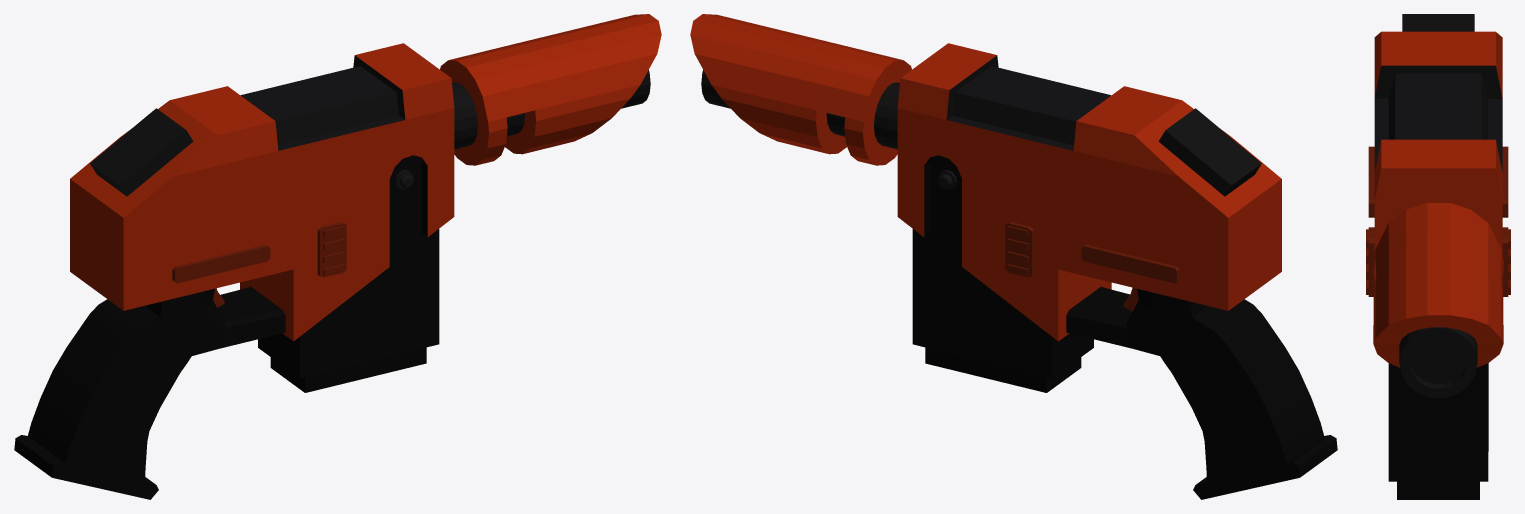
Rendered from Accatran_MG_Variant_Heavy_Laspistol_Orange.obj.
3 renders of one model, left to right at view 1: azimuth 30°, elevation 25°; view 2: azimuth 150°, elevation 25°; view 3: azimuth 270°, elevation 25°, orthographic. The views are drawn at different scales.
Parts seen in each view (by area): view 1: Accatran_Pattern_Mk_II_Heavy_Laspistol_Orange; view 2: Accatran_Pattern_Mk_II_Heavy_Laspistol_Orange; view 3: Accatran_Pattern_Mk_II_Heavy_Laspistol_Orange.
Part boxes in pixels (x1,y1,x2,y2): Accatran_Pattern_Mk_II_Heavy_Laspistol_Orange: [14, 14, 661, 499]; Accatran_Pattern_Mk_II_Heavy_Laspistol_Orange: [690, 14, 1337, 499]; Accatran_Pattern_Mk_II_Heavy_Laspistol_Orange: [1366, 14, 1510, 499].
Bounding box in the file's own units: 1.16 × 0.6378 × 0.1958.
